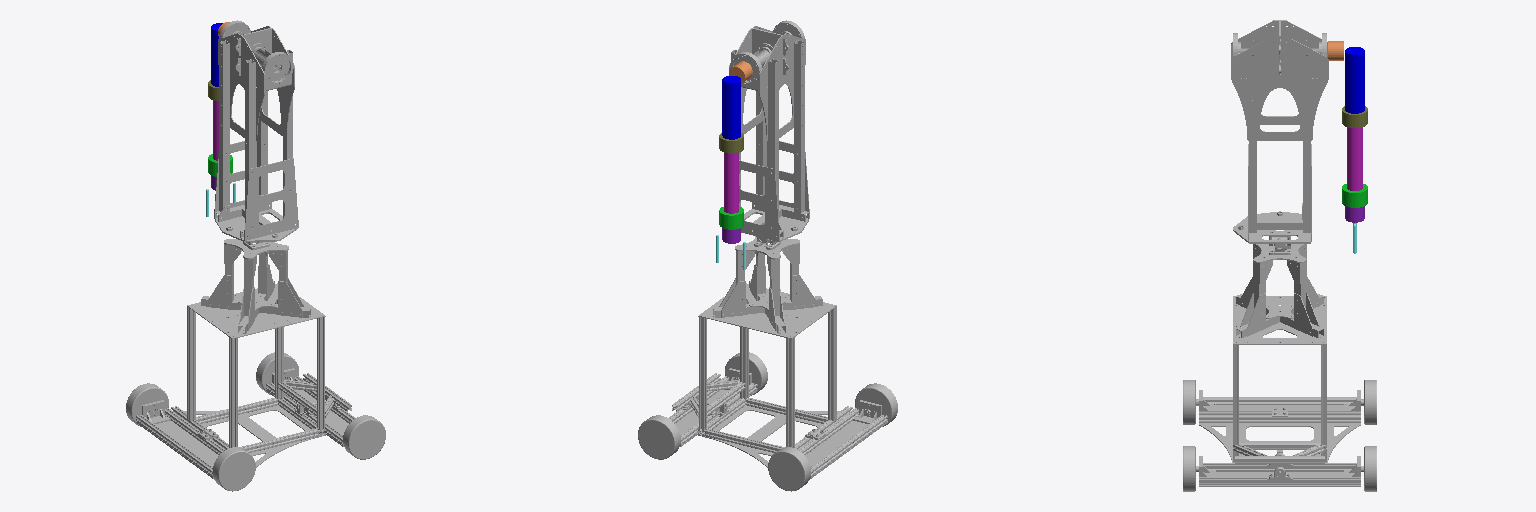
URDF robot description (neurofull):
<robot
  name="neurofull">
  <link 
    name="base_footprint">
    <visual>
    <origin rpy="0 0 0" xyz="0 0 0"/>
    <geometry>
       <box size="0.05 0.05 0.001"/>
    </geometry>
    <material name="TransparentGreen"/>
    </visual>
  </link>
  <link
    name="base_leg">
    <inertial>
      <origin
        xyz="0 0 0.0344645056443236"
        rpy="0 0 0" />
      <mass
        value="4.96180110119092" />
      <inertia
        ixx="0.260181029472697"
        ixy="-1.8355788022317E-06"
        ixz="-0.00155137956745712"
        iyy="0.263728282272559"
        iyz="1.00993985627843E-07"
        izz="0.488283544882969" />
    </inertial>
    <visual>
      <origin
        xyz="0 0 0"
        rpy="0 0 0" />
      <geometry>
        <mesh
          filename="package://neurofull/meshes/base_leg.stl" />
      </geometry>
      <material
        name="">
        <color
          rgba="0.752941176470588 0.752941176470588 0.752941176470588 1" />
      </material>
    </visual>
    <collision>
      <origin
        xyz="0 0 0"
        rpy="0 0 0" />
      <geometry>
        <mesh
          filename="package://neurofull/meshes/base_leg.stl" />
      </geometry>
    </collision>
  </link>

  <joint name="joint_footprint" type="fixed">
    <origin rpy="0 0 0" xyz="0 0 0"/>
    <parent link="base_footprint"/>
    <child link="base_leg"/>
  </joint>


  <link
    name="base_link">
    <inertial>
      <origin
        xyz="0 0 0.497022585106364"
        rpy="0 0 0" />
      <mass
        value="2.64772097817827" />
      <inertia
        ixx="0.355578054616091"
        ixy="0.00054044346883383"
        ixz="0.00826972267071127"
        iyy="0.354512666156879"
        iyz="-0.00128012471195156"
        izz="0.0346040156500564" />
    </inertial>
    <visual>
      <origin
        xyz="0 0 0"
        rpy="0 0 0" />
      <geometry>
        <mesh
          filename="package://neurofull/meshes/base_link.stl" />
      </geometry>
      <material
        name="">
        <color
          rgba="0.752941176470588 0.752941176470588 0.752941176470588 1" />
      </material>
    </visual>
    <collision>
      <origin
        xyz="0 0 0"
        rpy="0 0 0" />
      <geometry>
        <mesh
          filename="package://neurofull/meshes/base_link.stl" />
      </geometry>
    </collision>
  </link>
  <joint
    name="base_link_joint"
    type="fixed">
    <origin
      xyz="0 0 0.423"
      rpy="0 0 0" />
    <parent
      link="base_leg" />
    <child
      link="base_link" />
    <axis
      xyz="0 0 0" />
  </joint>

  <link
    name="left_arm_link0">
  </link>
  <joint
    name="left_arm_joint0"
    type="fixed">
    <origin
      xyz="0 0.146 0.917"
      rpy="-1.5708 0 0" />
    <parent
      link="base_link" />
    <child
      link="left_arm_link0" />
    <axis
      xyz="0 0 0" />
  </joint>
  <link
    name="left_arm_link1">
    <inertial>
      <origin
        xyz="0 0 0.025"
        rpy="0 0 0" />
      <mass
        value="0.139895412046326" />
      <inertia
        ixx="0.000291527799787079"
        ixy="7.02048677679412E-07"
        ixz="-1.54733263205051E-05"
        iyy="0.000240969210302021"
        iyz="-2.14818780078269E-07"
        izz="0.000151629908718559" />
    </inertial>
    <visual>
      <origin
        xyz="0 0 0.025"
        rpy="0 0 0" />
      <geometry>
        <cylinder length="0.05" radius="0.03"/>
      </geometry>
      <material
        name="">
        <color
          rgba="0.9 0.6 0.4 1" />
      </material>
    </visual>
    <collision>
      <origin
        xyz="0 0 0.025"
        rpy="0 0 0" />
      <geometry>
        <cylinder length="0.05" radius="0.03"/>
      </geometry>
    </collision>
  </link>
  <joint
    name="left_arm_joint1"
    type="revolute">
    <origin
      xyz="0 0 0.001"
      rpy="0 0 0" />
    <parent
      link="left_arm_link0" />
    <child
      link="left_arm_link1" />
    <axis
      xyz="0 0 -1" />
    <limit
      lower="-1.5708"
      upper="1.5708"
      effort="2"
      velocity="1" />
  </joint>
  <link
    name="left_arm_link2">
    <inertial>
      <origin
        xyz="0.10 0 0"
        rpy="0 0 0" />
      <mass
        value="0.222706771538381" />
      <inertia
        ixx="0.000221293565894878"
        ixy="9.64715999128791E-08"
        ixz="1.17177262431235E-05"
        iyy="0.00108680182339941"
        iyz="7.3745697887011E-10"
        izz="0.00105620684573982" />
    </inertial>
    <visual>
      <origin
        xyz="0.10 0 0"
        rpy="0 1.5708 0" />
      <geometry>
        <cylinder length="0.20" radius="0.03"/>
      </geometry>
      <material
        name="">
        <color
          rgba="0 0 1 1" />
      </material>
    </visual>
    <collision>
      <origin
        xyz="0.10 0 0"
        rpy="0 1.5708 0" />
      <geometry>
        <cylinder length="0.20" radius="0.03"/>
      </geometry>
    </collision>
  </link>
  <joint
    name="left_arm_joint2"
    type="revolute">
    <origin
      xyz="0 0 0.084"
      rpy="1.5708 0 1.5708" />
    <parent
      link="left_arm_link1" />
    <child
      link="left_arm_link2" />
    <axis
      xyz="0 0 1" />
    <limit
      lower="-0.78"
      upper="0.78"
      effort="2"
      velocity="1" />
  </joint>
  <link
    name="left_arm_link3">
    <inertial>
      <origin
        xyz="0 0 0.0225"
        rpy="0 0 0" />
      <mass
        value="0.078971511055653" />
      <inertia
        ixx="7.19666232277633E-05"
        ixy="-2.29834747206398E-21"
        ixz="-1.68863370887188E-05"
        iyy="0.000116283270534729"
        iyz="5.15631306641055E-20"
        izz="0.000104168336512131" />
    </inertial>
    <visual>
      <origin
        xyz="0 0 0.0225"
        rpy="0 0 0" />
      <geometry>
        <cylinder length="0.045" radius="0.04"/>
      </geometry>
      <material
        name="">
        <color
          rgba="0.5 0.5 0.3 1" />
      </material>
    </visual>
    <collision>
      <origin
        xyz="0 0 0.0225"
        rpy="0 1 0" />
      <geometry>
        <cylinder length="0.045" radius="0.04"/>
      </geometry>
    </collision>
  </link>
  <joint
    name="left_arm_joint3"
    type="revolute">
    <origin
      xyz="0.20 0 0"
      rpy="-1.5708 0 -1.5708" />
    <parent
      link="left_arm_link2" />
    <child
      link="left_arm_link3" />
    <axis
      xyz="0 0 -1" />
    <limit
      lower="-1.5708"
      upper="1.5708"
      effort="2"
      velocity="1" />
  </joint>
  <link
    name="left_arm_link4">
    <inertial>
      <origin
        xyz="0.11 0 0"
        rpy="0 1.5708 0"/>
      <mass
        value="0.163592437075005" />
      <inertia
        ixx="9.18715474899927E-05"
        ixy="1.14360963815123E-05"
        ixz="-1.44049786151869E-05"
        iyy="0.000940484151135754"
        iyz="1.90547978307357E-07"
        izz="0.000935522761640683" />
    </inertial>
    <visual>
      <origin
        xyz="0.11 0 0"
        rpy="0 1.5708 0"/>
      <geometry>
        <cylinder length="0.22" radius="0.025"/>
      </geometry>
      <material
        name="">
        <color
          rgba="0.8 0.2 0.8 1" />
      </material>
    </visual>
    <collision>
      <origin
        xyz="0.11 0 0 "
        rpy="0 1.5708 0" />
      <geometry>
        <cylinder length="0.22" radius="0.025"/>
      </geometry>
    </collision>
  </link>
  <joint
    name="left_arm_joint4"
    type="revolute">
    <origin
      xyz="0 0 0.045"
      rpy="1.5708 -1.5708 1.5708"/>
    <parent
      link="left_arm_link3" />
    <child
      link="left_arm_link4" />
    <axis
      xyz="0 0 1" />
    <limit
      lower="-1.5708"
      upper="1.5708"
      effort="2"
      velocity="1" />
  </joint>
  <link
    name="left_arm_link5">
    <inertial>
      <origin
        xyz="0 0 0.025"
        rpy="0 0 0"/>
      <mass
        value="0.0975990294014391" />
      <inertia
        ixx="9.17613388444776E-05"
        ixy="1.93938108659678E-06"
        ixz="-2.18069280623664E-05"
        iyy="0.000145599253848535"
        iyz="3.27545465049375E-06"
        izz="0.000109308596470807" />
    </inertial>
    <visual>
      <origin
        xyz="0 0 0.025"
        rpy="0 0 0"/>
      <geometry>
        <cylinder length="0.05" radius="0.04"/>
      </geometry>
      <material
        name="">
        <color
          rgba="0.1 0.8 0.2 1" />
      </material>
    </visual>
    <collision>
      <origin
        xyz="0 0 0.025"
        rpy="0 0 0" />
      <geometry>
        <cylinder length="0.05" radius="0.04"/>
      </geometry>
    </collision>
  </link>
  <joint
    name="left_arm_joint5"
    type="revolute">
    <origin
      xyz="0.22 0 0"
      rpy="3.1416 -1.5708 0"/>
    <parent
      link="left_arm_link4" />
    <child
      link="left_arm_link5" />
    <axis
      xyz="0 0 1" />
    <limit
      lower="-1.5708"
      upper="1.5708"
      effort="2"
      velocity="1" />
  </joint>
  <link
    name="left_arm_link6">
    <inertial>
      <origin
        xyz="0.025 0 0"
        rpy="0 0 0" />
      <mass
        value="0.0342933650278285" />
      <inertia
        ixx="2.81251487192025E-05"
        ixy="-9.52330011495129E-08"
        ixz="8.00630003676371E-09"
        iyy="2.12668689963334E-05"
        iyz="5.76691167452361E-07"
        izz="2.57654425067355E-05" />
    </inertial>
    <visual>
      <origin
        xyz="0.025 0 0"
        rpy="0 1.5708 0" />
      <geometry>
        <cylinder length="0.05" radius="0.03"/>
      </geometry>
      <material
        name="">
        <color
          rgba="0.6 0.2 0.8 1" />
      </material>
    </visual>
    <collision>
      <origin
        xyz="0.025 0 0"
        rpy="0 1.5708 0" />
      <geometry>
        <cylinder length="0.05" radius="0.03"/>
      </geometry>
    </collision>
  </link>
  <joint
    name="left_arm_joint6"
    type="revolute">
    <origin
      xyz="0 0 0.055"
      rpy="1.5708 -1.5708 0" />
    <parent
      link="left_arm_link5" />
    <child
      link="left_arm_link6" />
    <axis
      xyz="0 0 -1" />
    <limit
      lower="-1.5708"
      upper="1.5708"
      effort="2"
      velocity="1" />
  </joint>
  <link
    name="left_gripper_frame">
  </link>
  <joint
    name="left_arm_joint7"
    type="fixed">
    <origin
      xyz="0.09 0 0"
      rpy="1.5708 0 0" />
    <parent
      link="left_arm_link6" />
    <child
      link="left_gripper_frame" />
  </joint>
  <link
    name="left_finger_l">
    <inertial>
      <origin
        xyz="0.0475 0 0"
        rpy="0 0 1.5708" />
      <mass
        value="0.0004954649646829" />
      <inertia
        ixx="1.28718097526934E-07"
        ixy="-4.95287937680829E-22"
        ixz="4.25264237478257E-23"
        iyy="1.27301609789733E-07"
        iyz="6.66607407315439E-23"
        izz="4.01590299797697E-09" />
    </inertial>
    <visual>
      <origin
        xyz="0.0475 0 0"
        rpy="0 0 1.5708" />
      <geometry>
        <cylinder length="0.095" radius="0.005" />
      </geometry>
      <material
        name="">
        <color
          rgba="0.5 1 1 1" />
      </material>
    </visual>
    <collision>
      <origin
        xyz="0.0475 0 0"
        rpy="0 0 1.5708" />
      <geometry>
        <cylinder length="0.0095" radius="0.005" />
      </geometry>
    </collision>
  </link>
  <joint
    name="left_joint_gripper_l"
    type="prismatic">
    <origin
      xyz="0.095 0 -0.075"
      rpy="0 1.5708 0" />
    <parent
      link="left_arm_link6" />
    <child
      link="left_finger_l" />
    <axis
      xyz="1 0 0" />
    <limit
      effort="1" 
      lower="-0.11" 
      upper="-0.04" 
      velocity="1.0"/>
  </joint>
  <link
    name="left_finger_r">
    <inertial>
      <origin
        xyz="0.0475 0 0"
        rpy="0 0 1.5708" />
      <mass
        value="0.0004954649646829" />
      <inertia
        ixx="1.28718097526934E-07"
        ixy="-4.95287937680829E-22"
        ixz="4.25264237478257E-23"
        iyy="1.27301609789733E-07"
        iyz="6.66607407315439E-23"
        izz="4.01590299797697E-09" />
    </inertial>
    <visual>
      <origin
        xyz="0.0475 0 0"
        rpy="0 0 1.5708" />
      <geometry>
        <cylinder length="0.095" radius="0.005" />
      </geometry>
      <material
        name="">
        <color
          rgba="0.5 1 1 1" />
      </material>
    </visual>
    <collision>
      <origin
        xyz="0.0475 0 0"
        rpy="0 0 1.5708" />
      <geometry>
        <cylinder length="0.0095" radius="0.005" />
      </geometry>
    </collision>
  </link>
  <joint
    name="left_joint_gripper_r"
    type="prismatic">
    <origin
      xyz="0.095 0 0.025"
      rpy="0 1.5708 0" />
    <parent
      link="left_arm_link6" />
    <child
      link="left_finger_r" />
    <axis
      xyz="1 0 0" />
    <limit
      effort="1" 
      lower="-0.11" 
      upper="-0.04" 
      velocity="1.0"/>
  </joint>
</robot>

--- Render facts (derived) ---
3 views of the same robot in one strip: view 1: azimuth 30°, elevation 25°; view 2: azimuth 150°, elevation 25°; view 3: azimuth 270°, elevation 25° (orthographic).
Model neurofull with 13 links and 12 joints (6 revolute, 2 prismatic, 4 fixed), rooted at base_footprint, posed joints at zero except 2 at the middle of their limits (left_joint_gripper_l = -0.075, left_joint_gripper_r = -0.075).
Links seen in each view (by area): view 1: base_link, base_leg; view 2: base_link, base_leg, left_arm_link2, left_arm_link4; view 3: base_link, base_leg, left_arm_link2, left_arm_link4.
Boxes of the visible links, x1=… form: base_link: x1=187, y1=20, x2=325, y2=338; base_leg: x1=126, y1=300, x2=385, y2=491; base_link: x1=698, y1=20, x2=836, y2=338; base_leg: x1=638, y1=300, x2=897, y2=491; left_arm_link2: x1=722, y1=76, x2=740, y2=139; left_arm_link4: x1=724, y1=153, x2=738, y2=213; base_link: x1=1231, y1=20, x2=1328, y2=344; base_leg: x1=1183, y1=345, x2=1376, y2=491; left_arm_link2: x1=1345, y1=47, x2=1364, y2=113; left_arm_link4: x1=1347, y1=127, x2=1362, y2=190.
Size in the robot's own frame: 0.624 by 0.6 by 1.45 metres.
Meshes: 2 distinct files referenced, 2 mesh visuals loaded (2 binary STL).